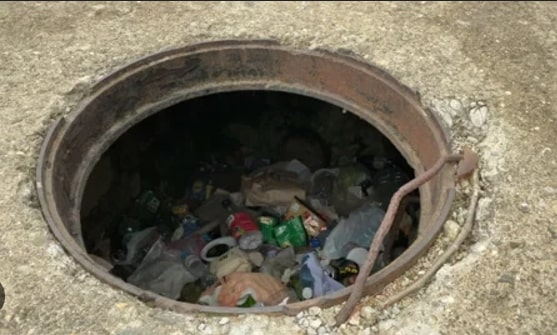open_manhole: (47, 49, 462, 296)
